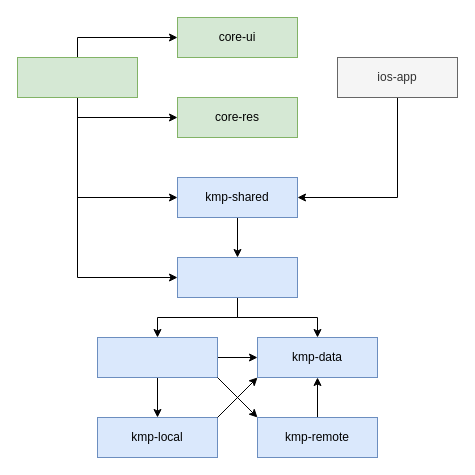
Image size: 475x475. Some labels were removed from this diagram. Each missing label, with the centre of its shape:
"android-app" goes at point 77,77.
"kmp-domain" goes at point 237,277.
"kmp-repository" goes at point 157,357.
